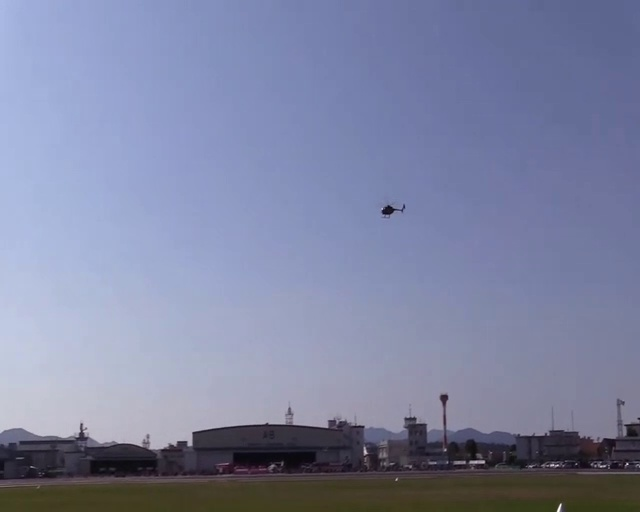HELICOPTER: (381, 202, 406, 218)
